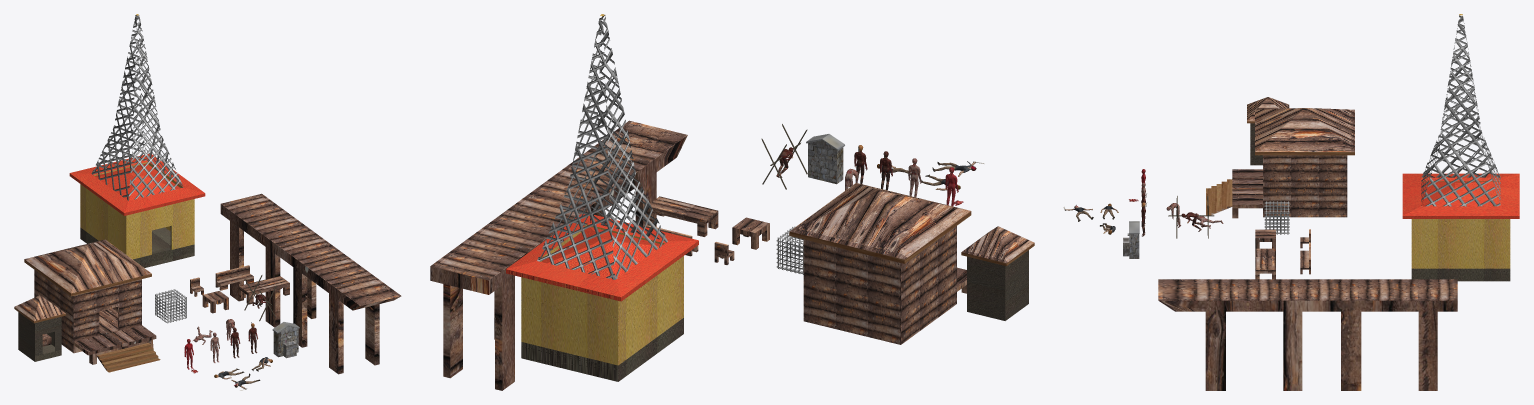
Rendered from eastern horror models.fbx.
The picture shows the model from 3 angles, left to right: view 1: azimuth 30°, elevation 25°; view 2: azimuth 150°, elevation 25°; view 3: azimuth 270°, elevation 25°; orthographic projection. The views are drawn at different scales.
Parts seen in each view (by area): view 1: Broadcast Station, Port, Cabin, WC, Stairs.001, VRISI, CAGE, Big Table, Bench, Table; view 2: Broadcast Station, Cabin, Port, WC, VRISI, Big Table, CAGE, Table; view 3: Port, Broadcast Station, Cabin, WC, Stairs.001, CAGE, Big Table, VRISI.
Part boxes in pixels (bbox=[...]): Broadcast Station: bbox=[69, 14, 205, 267]; Port: bbox=[220, 193, 401, 374]; Cabin: bbox=[24, 239, 156, 370]; WC: bbox=[14, 295, 65, 361]; Stairs.001: bbox=[97, 343, 160, 372]; VRISI: bbox=[272, 322, 299, 358]; CAGE: bbox=[155, 289, 186, 323]; Big Table: bbox=[239, 276, 289, 304]; Bench: bbox=[215, 265, 253, 290]; Table: bbox=[202, 291, 228, 313]; Broadcast Station: bbox=[506, 14, 698, 381]; Cabin: bbox=[789, 183, 971, 344]; Port: bbox=[430, 120, 687, 390]; WC: bbox=[961, 226, 1034, 320]; VRISI: bbox=[806, 134, 844, 184]; Big Table: bbox=[645, 196, 718, 236]; CAGE: bbox=[776, 226, 803, 274]; Table: bbox=[732, 217, 769, 249]; Port: bbox=[1158, 279, 1457, 390]; Broadcast Station: bbox=[1402, 14, 1519, 281]; Cabin: bbox=[1211, 108, 1354, 218]; WC: bbox=[1247, 97, 1289, 165]; Stairs.001: bbox=[1206, 179, 1232, 215]; CAGE: bbox=[1264, 201, 1289, 234]; Big Table: bbox=[1255, 248, 1275, 279]; VRISI: bbox=[1123, 221, 1139, 258].
Bounding box in the file's own units: 3216 × 2749 × 3639.
39 materials, 39 textured.
